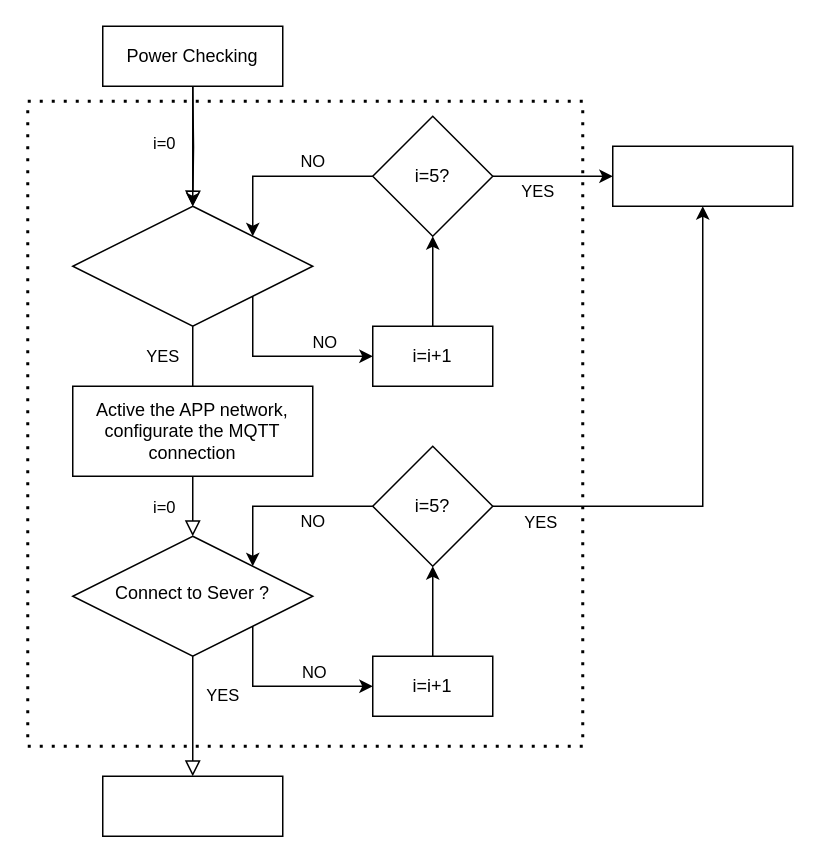
This 819x863 diagram has some shape labels left out. The box of each missing label's shape, as (x1, y1, x2, y2) in pixels:
Attach sucessfully?: (71, 205, 313, 326)
Data acquisition and Sending: (101, 775, 283, 836)
Idle: (611, 145, 793, 206)
